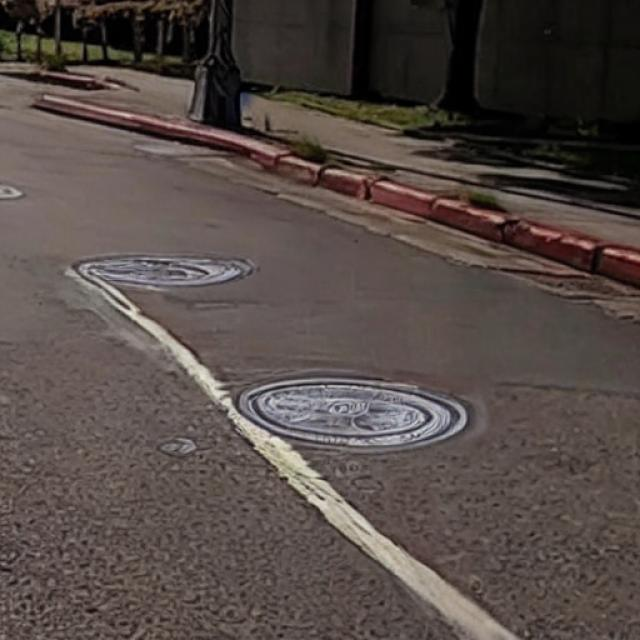puddle: (242, 376, 472, 452), (80, 248, 253, 294)
